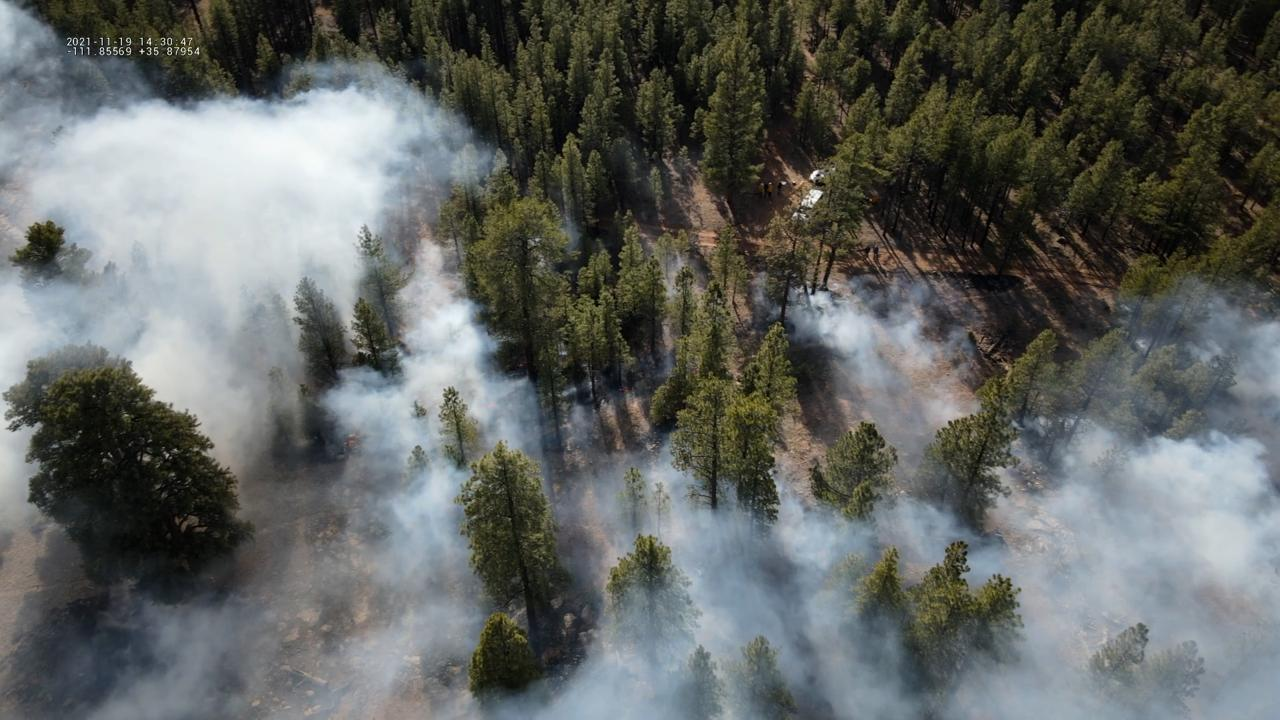fire: (868, 198, 874, 204)
smoke: (0, 0, 1280, 720)
